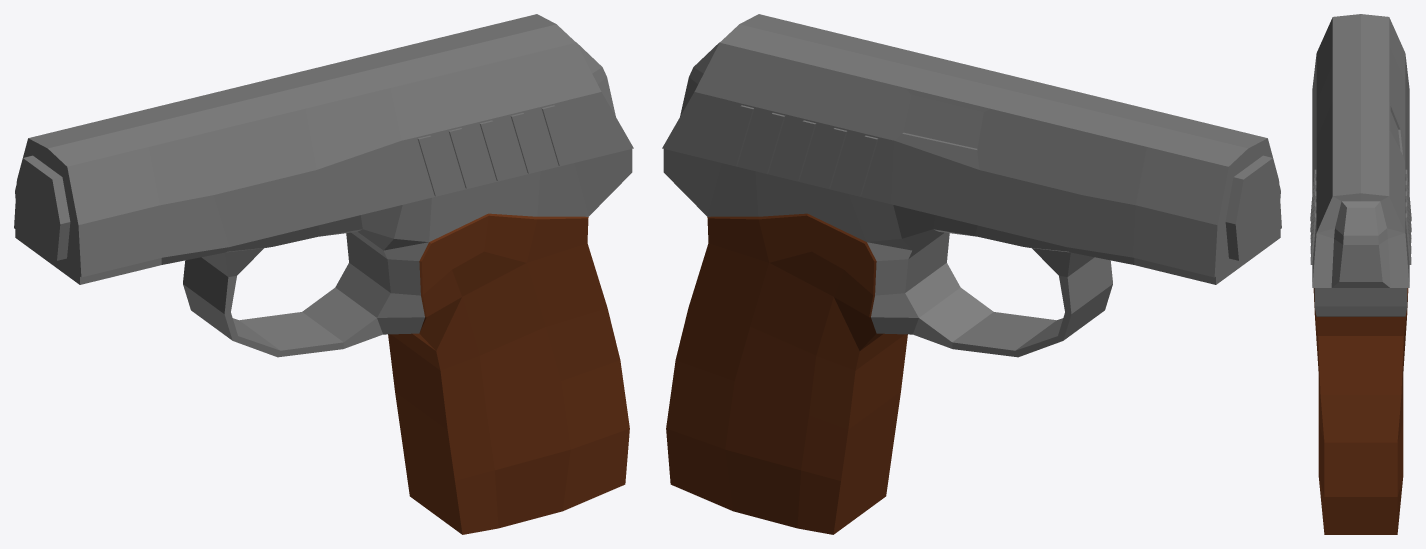
File: pistol.glb
The picture shows the model from 3 angles, left to right: view 1: azimuth 30°, elevation 25°; view 2: azimuth 150°, elevation 25°; view 3: azimuth 270°, elevation 25°; orthographic projection. The views are drawn at different scales.
Visible parts, largest first — view 1: PMm; view 2: PMm; view 3: PMm.
Boxes of the visible parts, left/top/right/bottom form: PMm: left=14, top=14, right=633, bottom=534; PMm: left=662, top=14, right=1281, bottom=534; PMm: left=1310, top=14, right=1411, bottom=534.
Bounding box in the file's own units: 0.9435 × 0.7399 × 0.2017.
